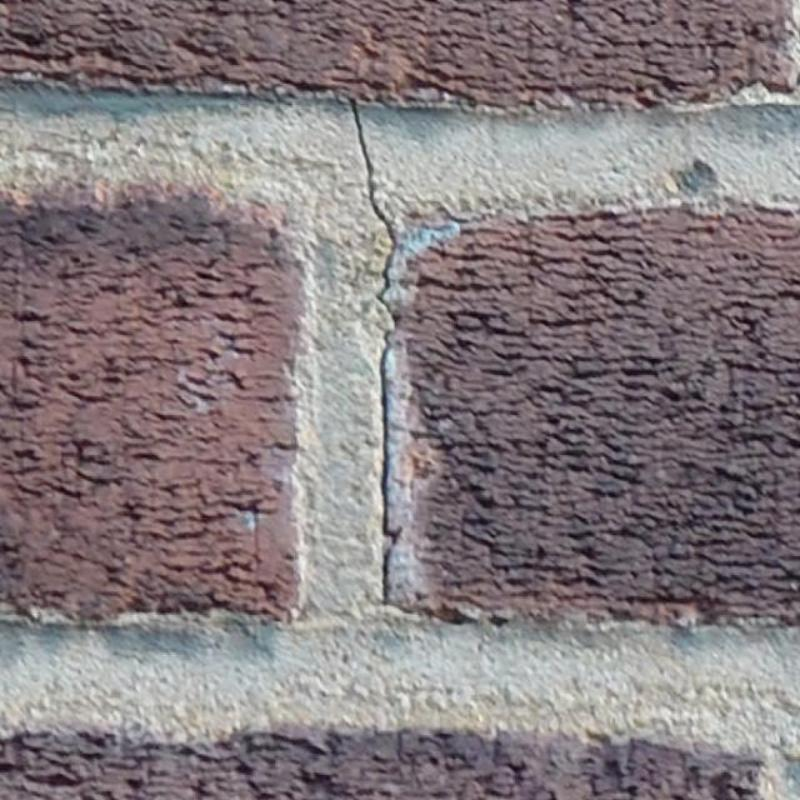crack: (350, 100, 397, 602)
